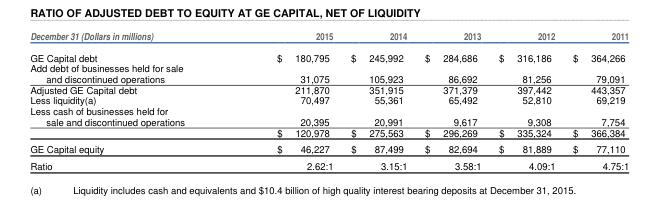table: (29, 28, 628, 172)
table column: (29, 28, 230, 172), (230, 28, 341, 172), (341, 28, 415, 172), (415, 28, 489, 172), (489, 28, 563, 172), (563, 28, 628, 172)
table column header: (29, 28, 628, 46)
table projected row header: (29, 104, 628, 115), (29, 62, 628, 72)
table row: (29, 28, 628, 46), (29, 140, 628, 157), (29, 46, 628, 62), (29, 157, 628, 172), (29, 126, 628, 140), (29, 72, 628, 83), (29, 83, 628, 94), (29, 104, 628, 115), (29, 115, 628, 126), (29, 62, 628, 72), (29, 94, 628, 104)
